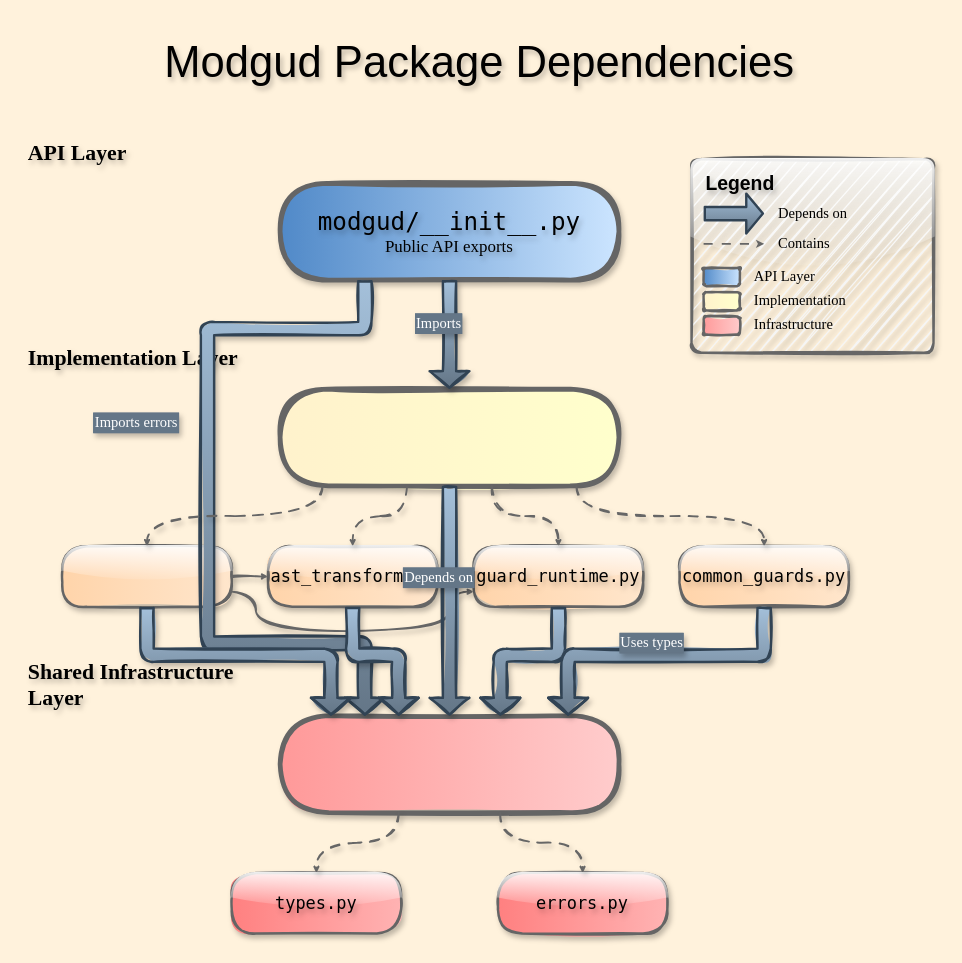
Some shapes in this 962 by 963 pixel diagram are drawn without their labels. Each missing label, with the centre of its shape:
"decorator.py" goes at pixel 148 578.
"guarded_expression Main decorator package" goes at pixel 450 438.
"shared Common types and errors" goes at pixel 450 765.
